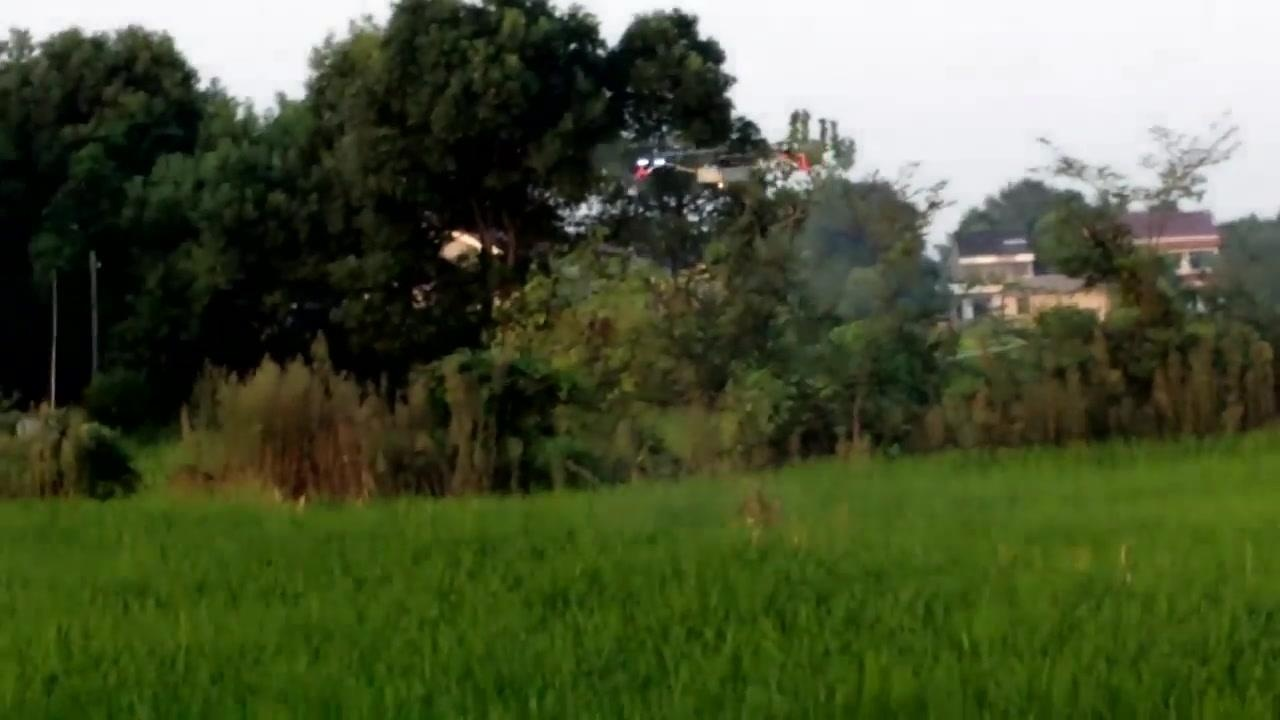UAV: (634, 143, 812, 212)
